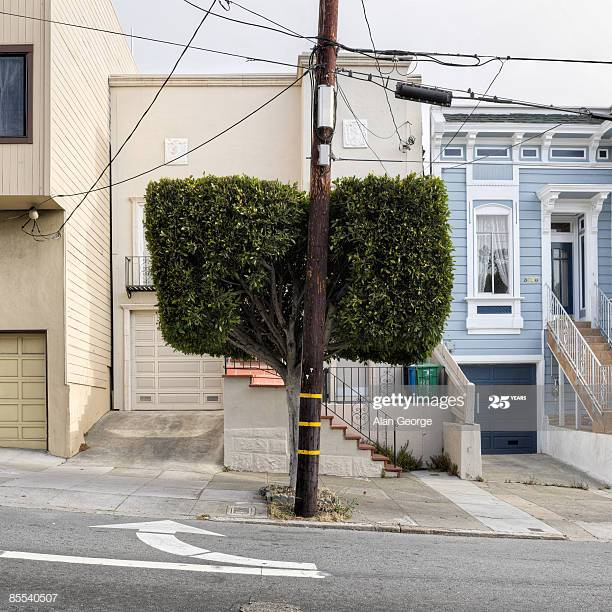pole: (270, 1, 358, 528)
